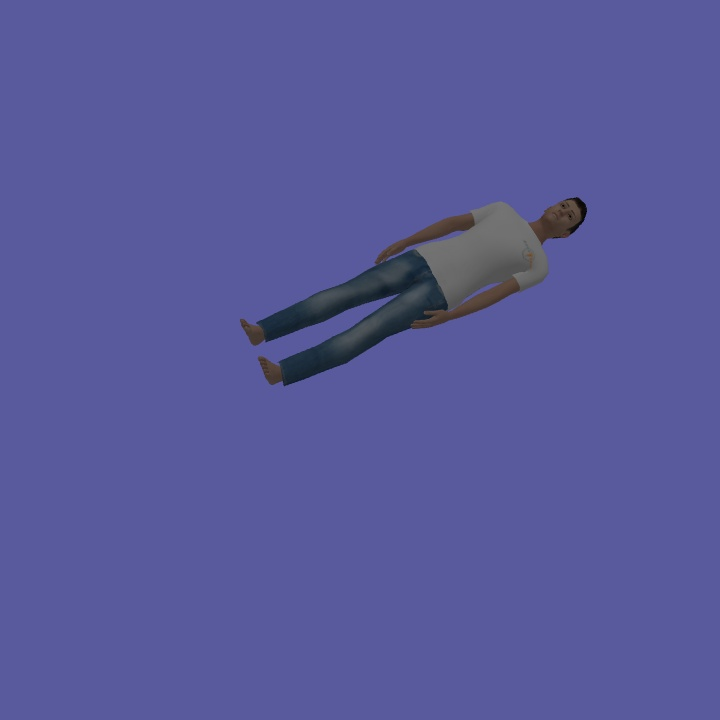victim: (237, 188, 591, 390)
